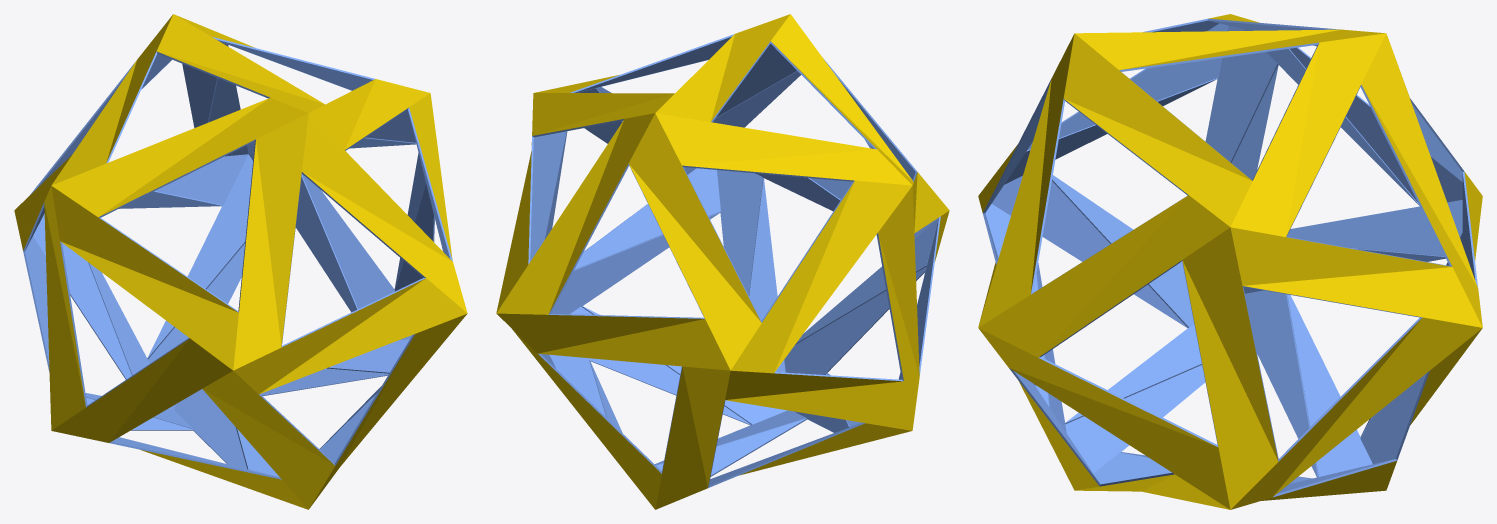
Rendered from Icosahedron1.glb.
3 views of the same model, side by side, from view 1: azimuth 30°, elevation 25°; view 2: azimuth 150°, elevation 25°; view 3: azimuth 270°, elevation 25° (orthographic). The views are drawn at different scales.
Visible parts, largest first — view 1: root; view 2: root; view 3: root.
Part boxes in pixels (bbox=[...]): root: bbox=[14, 14, 467, 509]; root: bbox=[496, 14, 949, 509]; root: bbox=[978, 14, 1482, 509].
Bounding box in the file's own units: 4.85 × 4.85 × 4.85.
